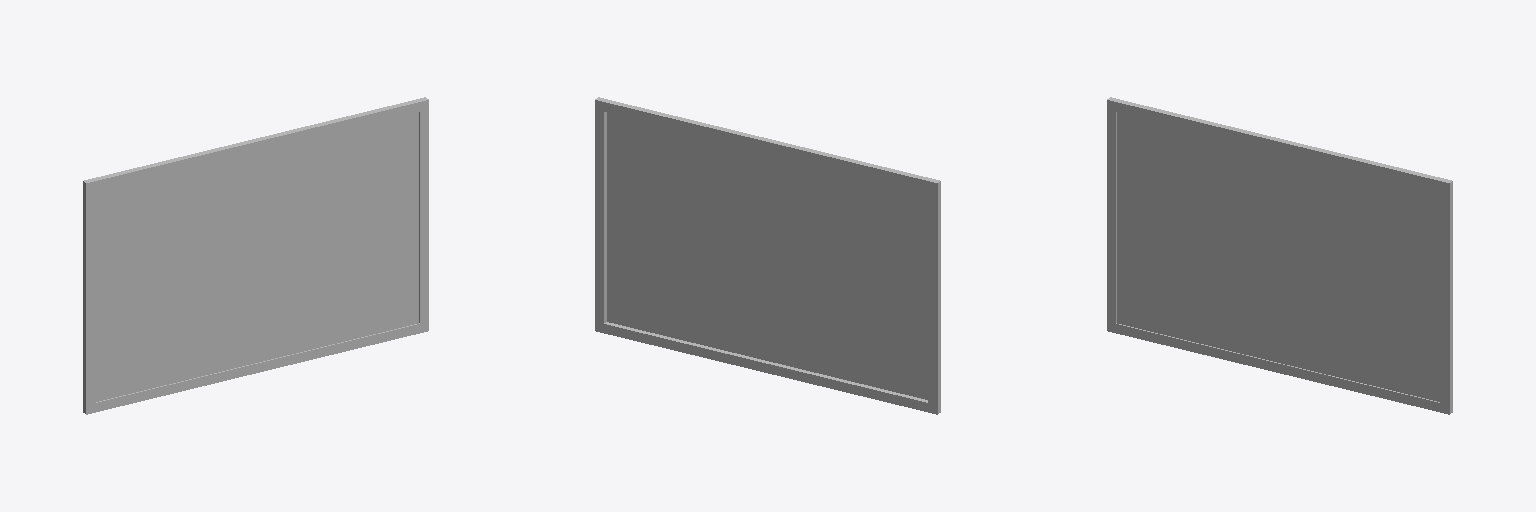
The model's file is quadro.obj.
3 renders of one model, left to right at view 1: azimuth 30°, elevation 25°; view 2: azimuth 150°, elevation 25°; view 3: azimuth 330°, elevation 25°, orthographic.
Parts seen in each view (by area): view 1: Group_001; view 2: Group_001; view 3: Group_001.
Part boxes in pixels (x1,y1,x2,y2): Group_001: (83,97,428,414); Group_001: (595,97,940,414); Group_001: (1107,97,1452,414).
Bounding box in the file's own units: 44.39 × 28.64 × 0.7874.